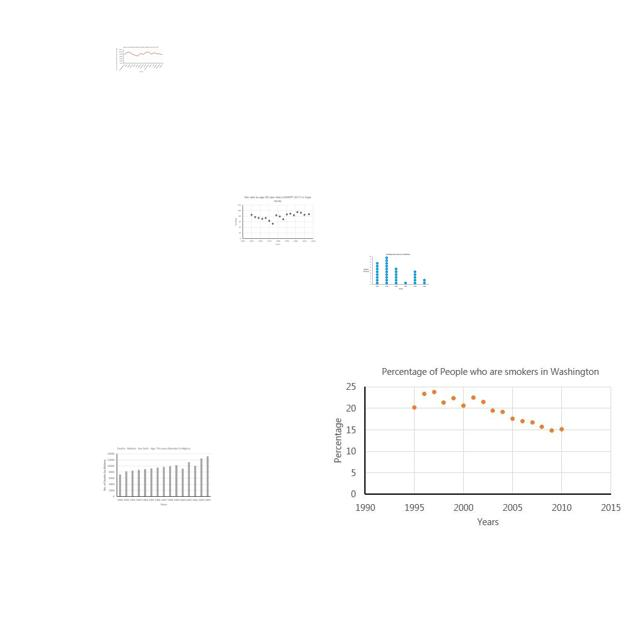Graph: (327, 360, 626, 532), (100, 445, 213, 508), (233, 194, 317, 246), (361, 251, 431, 292), (115, 46, 165, 74)
